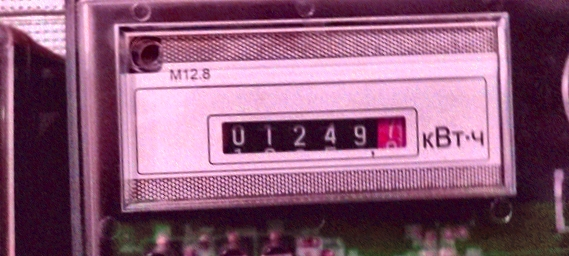0: (226, 119, 247, 146)
1: (258, 121, 275, 147)
2: (288, 121, 310, 149)
4: (320, 118, 340, 146)
7: (381, 115, 398, 140)
9: (349, 120, 369, 147)
screen: (196, 92, 434, 186)
